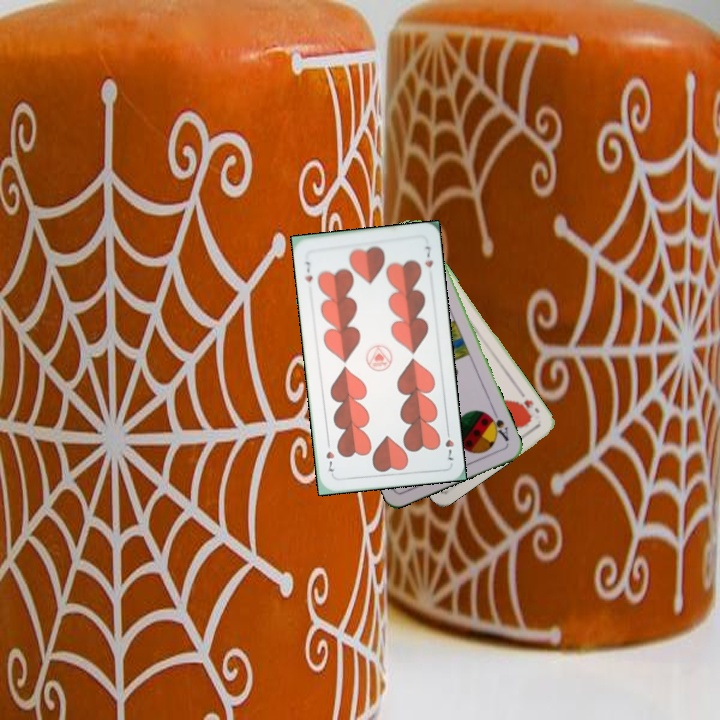H7: (441, 424, 457, 463), (301, 257, 315, 284)
HO: (515, 386, 542, 423)
SA: (484, 407, 512, 444)
